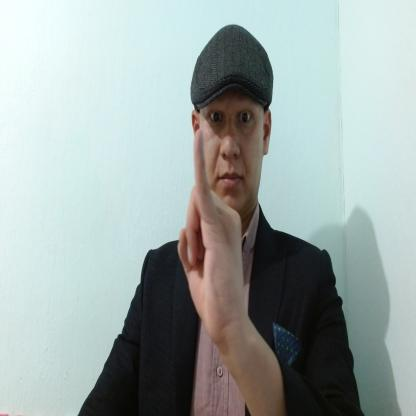I: (177, 129, 246, 338)
